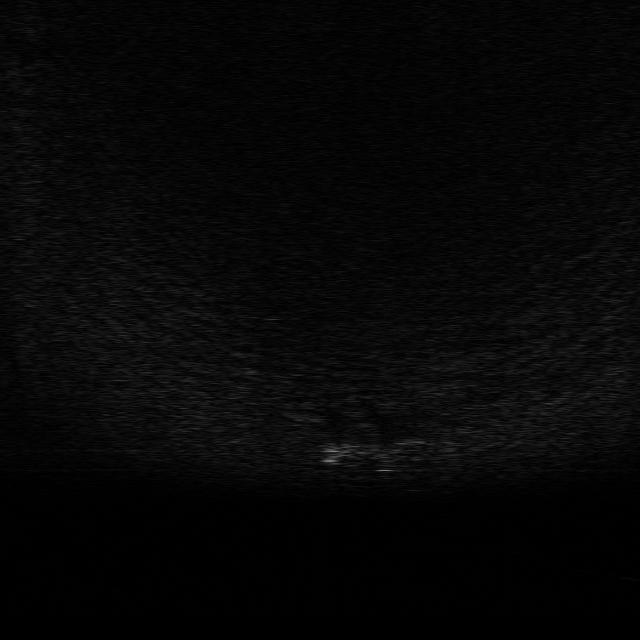plane: (320, 420, 424, 479)
